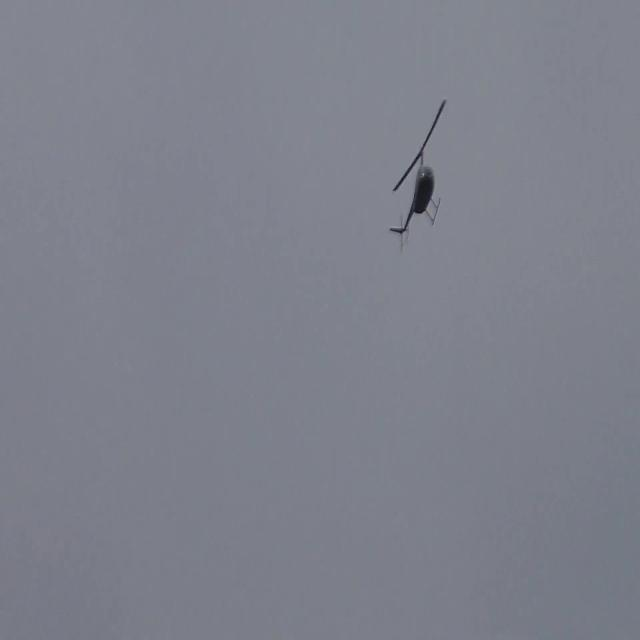CIV_HELO: (389, 148, 441, 235)
